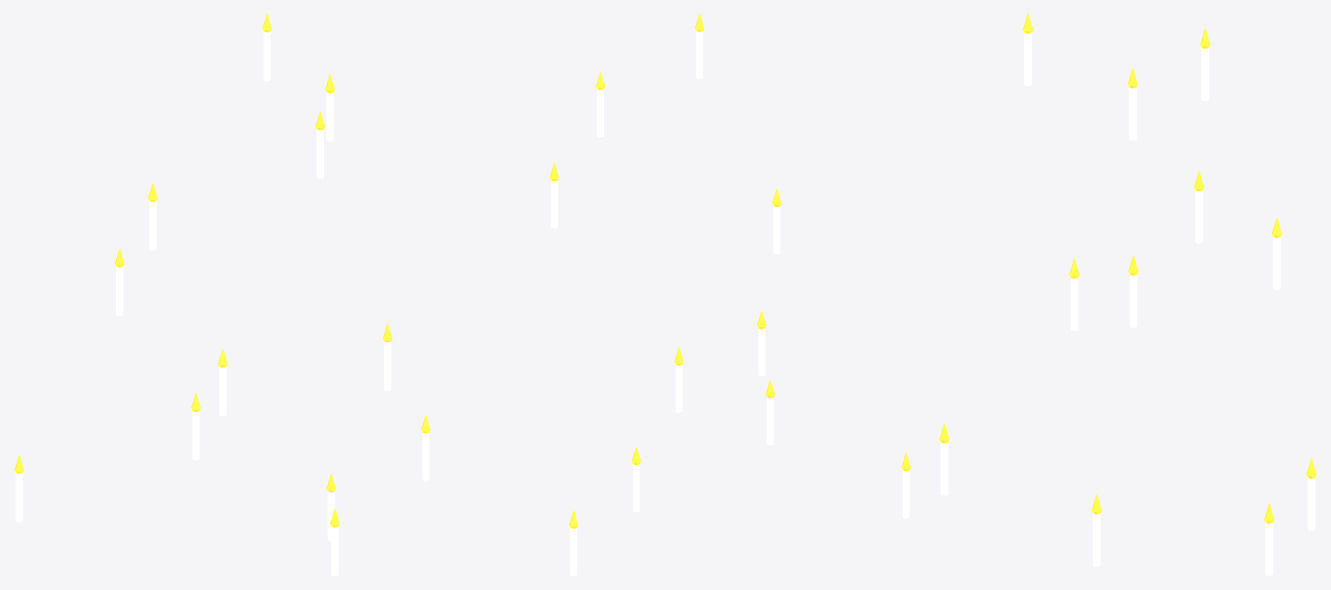
Rendered from candles.glb.
3 views of the same model, side by side, from view 1: azimuth 30°, elevation 25°; view 2: azimuth 150°, elevation 25°; view 3: azimuth 270°, elevation 25° (orthographic). The views are drawn at different scales.
Parts seen in each view (by area): view 1: candle.011, candle, candle.009, candle.001, candle.006, candle.008, candle.010, candle.004, candle.005, candle.007; view 2: no part large enough to name; view 3: candle, candle.001, candle.007, candle.010, candle.004, candle.005, candle.003, candle.008, candle.011, candle.009, candle.006.
Boxes of the visible parts, x1,y1,x2,y2 form: candle.011: (148,183,157,250); candle: (191,393,200,460); candle.009: (325,75,334,141); candle.001: (382,324,392,390); candle.006: (114,249,124,315); candle.008: (315,112,325,178); candle.010: (14,455,24,522); candle.004: (218,349,227,416); candle.005: (330,509,339,575); candle.007: (262,14,271,80); candle: (1306,459,1316,530); candle.001: (1264,504,1274,575); candle.007: (1200,29,1210,100); candle.010: (1128,256,1138,327); candle.004: (1069,259,1079,330); candle.005: (939,423,949,495); candle.003: (1091,494,1101,566); candle.008: (1194,171,1204,243); candle.011: (1127,68,1138,140); candle.009: (1022,14,1033,85); candle.006: (1271,218,1282,289).
Bounding box in the file's own units: 1.41 × 1.51 × 0.9722.
